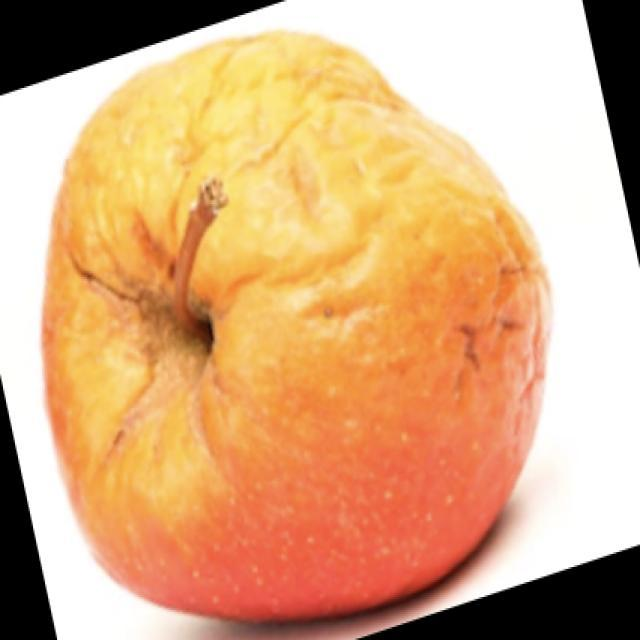Rotten: (54, 38, 554, 610)
